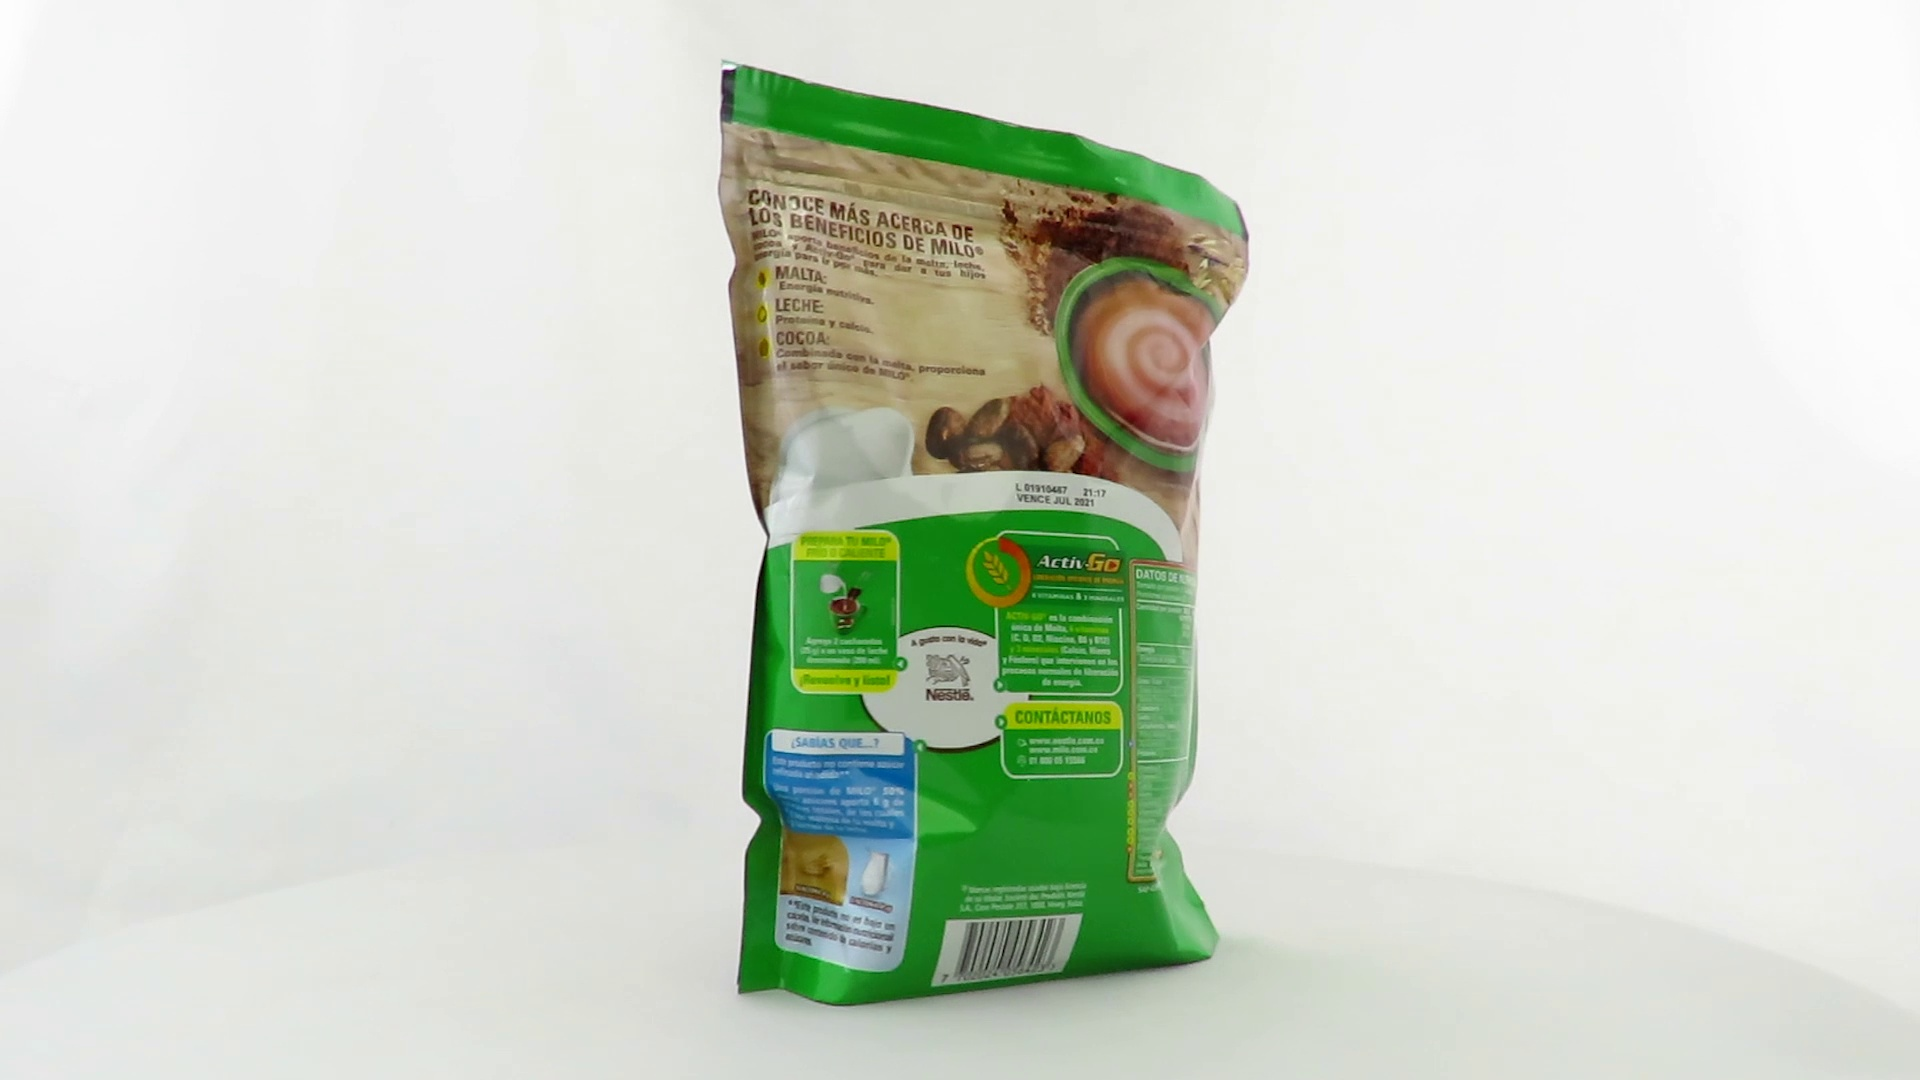COL0170205DYP50000: (712, 54, 1255, 1013)
